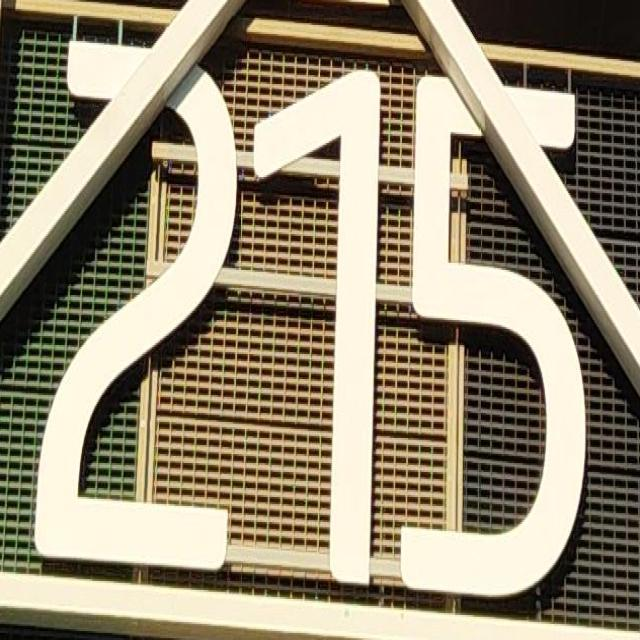character: (31, 33, 240, 578), (397, 72, 589, 600), (253, 64, 386, 594)
